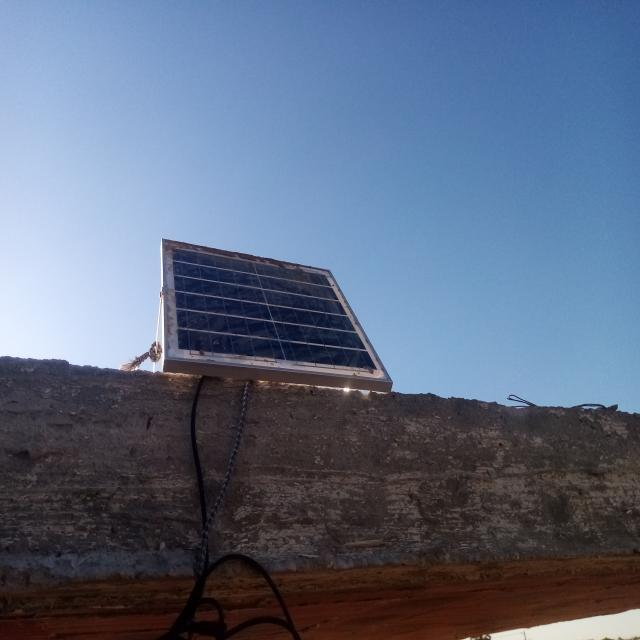faulty: (166, 242, 391, 379)
